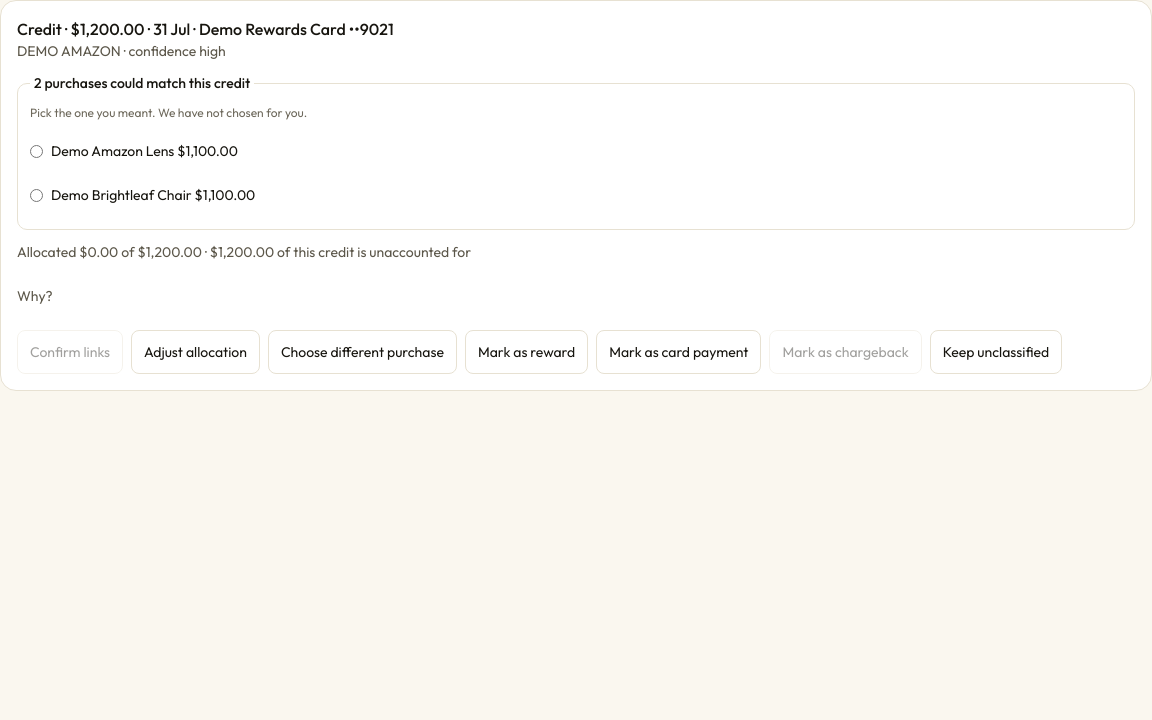
Test: FIN-RECOVERY-UI-001 · cards (C1-C11) › C4 — an ambiguous candidate renders alternatives with NO pre-selection and Confirm disabled
This screenshot has width=1152, height=720.
Expected: the text "2 purchases could match this credit" is shown, [30, 73, 254, 93]
Expected: the button "Confirm links" is disabled, [17, 330, 123, 374]
Click the radio button labelled "Demo Amazon Lens $1,100.00" at (36, 151), box [30, 144, 43, 158]
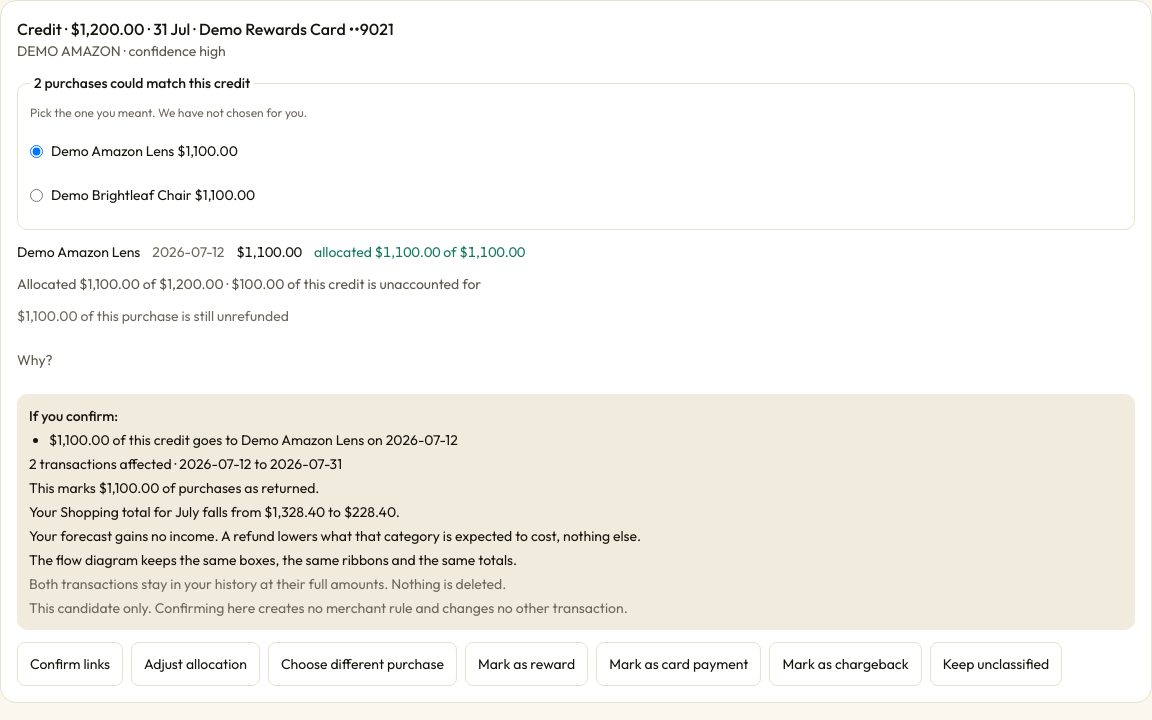
Result: the button "Confirm links" is enabled at [17, 642, 123, 686]
